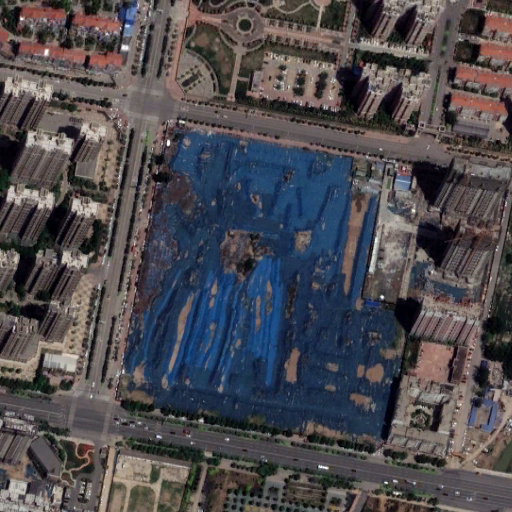cw: (118, 123, 406, 457)
